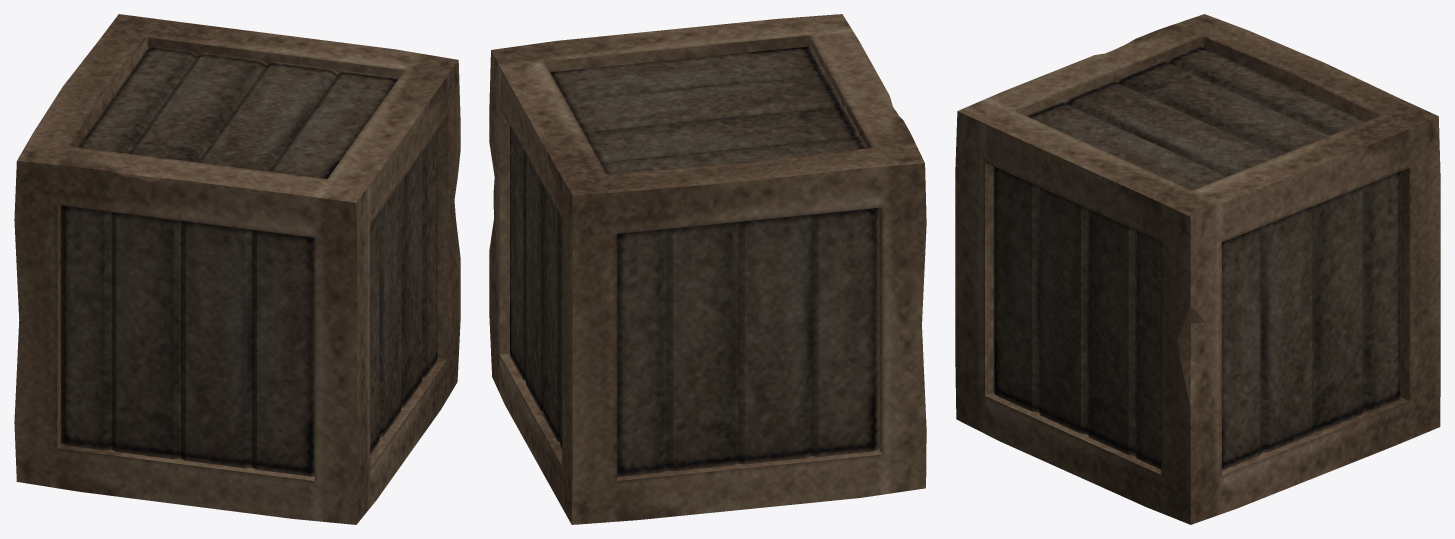
3 views of the same model, side by side, from view 1: azimuth 30°, elevation 25°; view 2: azimuth 150°, elevation 25°; view 3: azimuth 270°, elevation 25° (orthographic). The views are drawn at different scales.
Parts seen in each view (by area): view 1: wooden_crate_4; view 2: wooden_crate_4; view 3: wooden_crate_4.
Boxes of the visible parts, x1,y1,x2,y2 form: wooden_crate_4: [14, 14, 460, 524]; wooden_crate_4: [489, 14, 926, 524]; wooden_crate_4: [955, 14, 1440, 524].
Size of the model in its own units: 1.53 by 1.08 by 1.53.
1 material, 1 textured.
